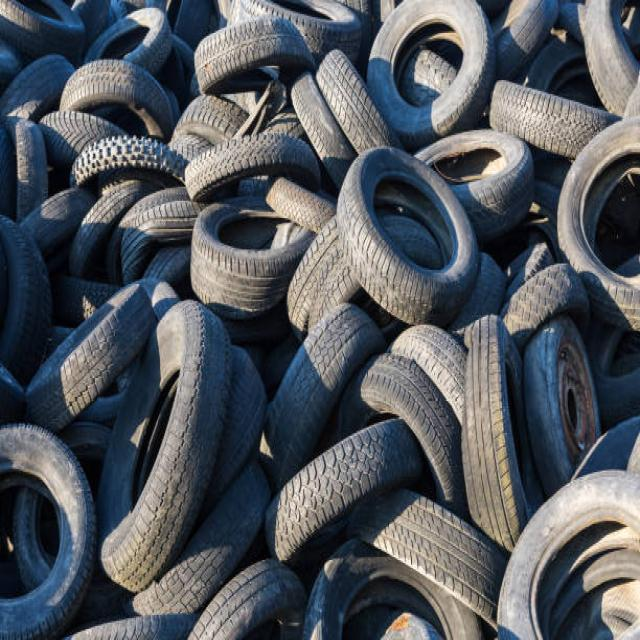plastic: (19, 20, 621, 596)
